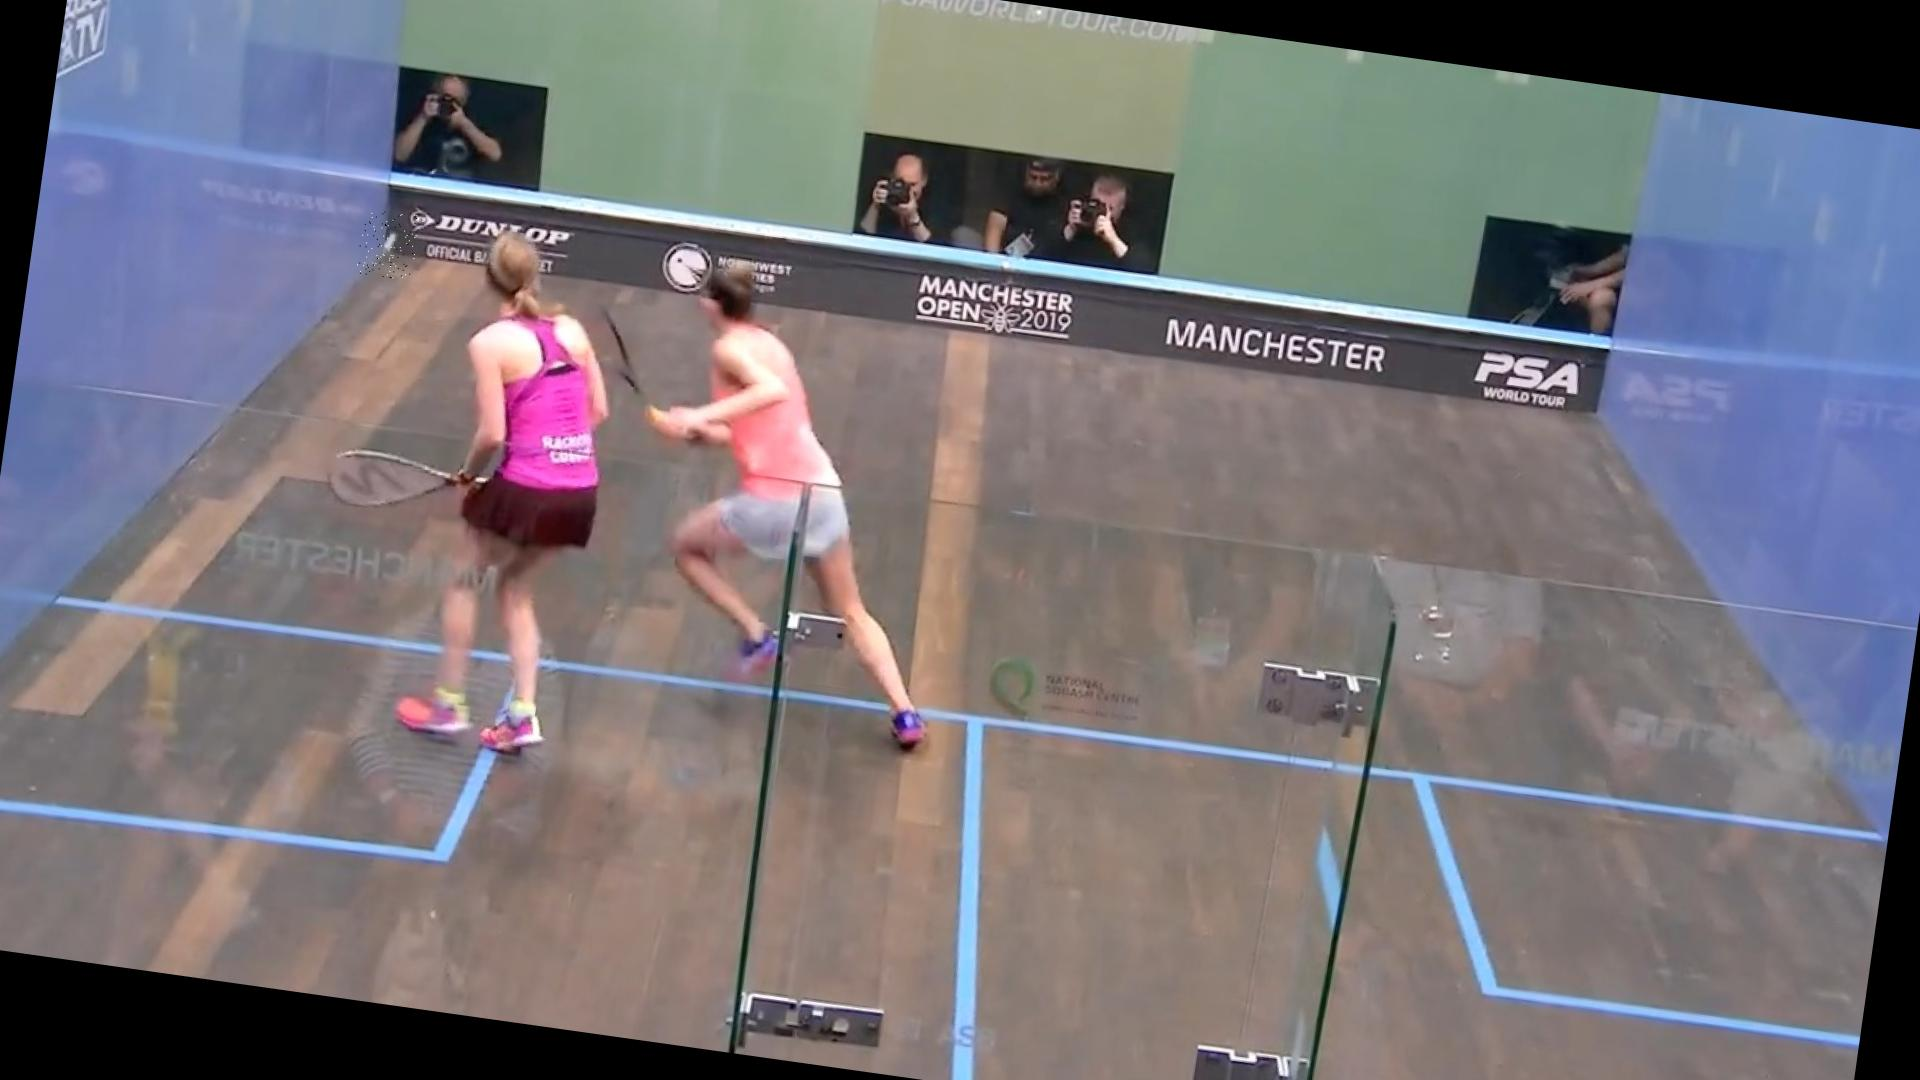Squash-Ball: (353, 208, 419, 281)
